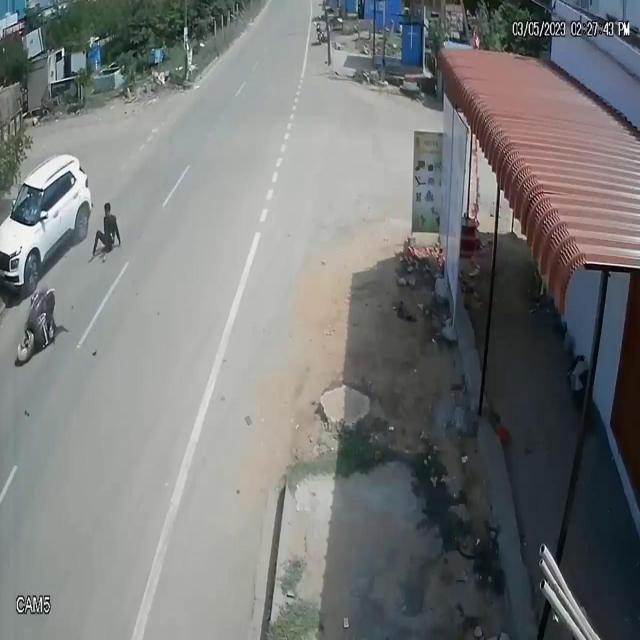accident: (0, 137, 122, 371)
